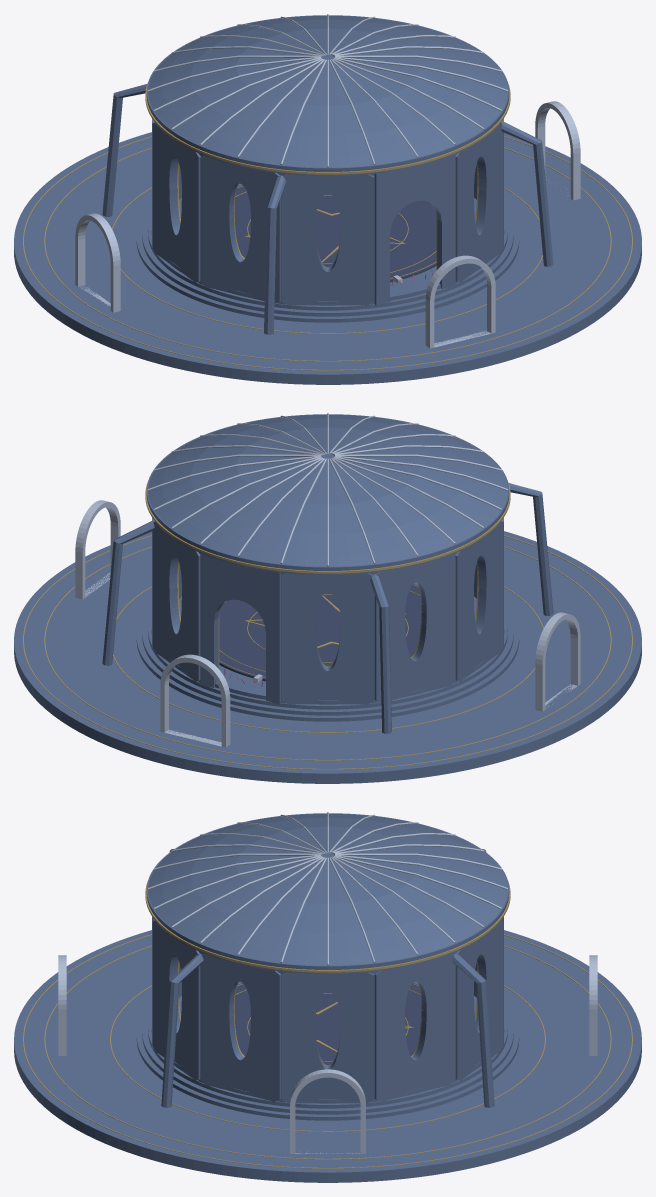
The picture shows the model from 3 angles, top to bottom: view 1: azimuth 30°, elevation 25°; view 2: azimuth 150°, elevation 25°; view 3: azimuth 270°, elevation 25°; orthographic projection.
Parts seen in each view (by area): view 1: TERRACE_finite_base, ROOF_hollow_dome, WALL_11_perforated, WALL_10_perforated, WALL_09_perforated, WALL_01_perforated, DANCE_floor, HALL_step_00, ROOF_drum, HALL_step_01, DOOR_00_upper, DOOR_00_jamb_-1 (+14 smaller); view 2: TERRACE_finite_base, ROOF_hollow_dome, WALL_07_perforated, WALL_08_perforated, WALL_09_perforated, WALL_05_perforated, DANCE_floor, HALL_step_00, ROOF_drum, HALL_step_01, DOOR_06_upper, DOOR_06_jamb_1 (+14 smaller); view 3: TERRACE_finite_base, ROOF_hollow_dome, WALL_03_perforated, WALL_02_perforated, WALL_04_perforated, WALL_01_perforated, WALL_05_perforated, DANCE_floor, ROOF_drum, HALL_step_00, HALL_step_01, EXTERIOR_brace_00 (+10 smaller).
Boxes of the visible parts, x1,y1,x2,y2 form: TERRACE_finite_base: (14,132,641,384); ROOF_hollow_dome: (148,16,507,167); WALL_11_perforated: (282,174,373,305); WALL_10_perforated: (200,156,281,303); WALL_09_perforated: (152,123,200,282); WALL_01_perforated: (455,123,503,282); DANCE_floor: (234,185,436,282); HALL_step_00: (136,207,519,322); ROOF_drum: (146,15,509,176); HALL_step_01: (142,210,513,316); DOOR_00_upper: (390,159,441,233); DOOR_00_jamb_-1: (374,171,389,305); TERRACE_finite_base: (14,531,641,783); ROOF_hollow_dome: (148,415,507,566); WALL_07_perforated: (282,573,373,704); WALL_08_perforated: (374,555,455,702); WALL_09_perforated: (455,522,503,681); WALL_05_perforated: (152,522,200,681); DANCE_floor: (219,584,421,681); HALL_step_00: (136,606,519,721); ROOF_drum: (146,414,509,575); HALL_step_01: (142,609,513,715); DOOR_06_upper: (214,558,265,632); DOOR_06_jamb_1: (266,570,281,704); TERRACE_finite_base: (14,930,641,1182); ROOF_hollow_dome: (148,814,507,965); WALL_03_perforated: (282,972,373,1103); WALL_02_perforated: (200,954,281,1101); WALL_04_perforated: (374,954,455,1101); WALL_01_perforated: (152,921,200,1080); WALL_05_perforated: (455,921,503,1080); DANCE_floor: (234,983,421,1065); ROOF_drum: (146,813,509,974); HALL_step_00: (136,1005,519,1120); HALL_step_01: (142,1008,513,1114); EXTERIOR_brace_00: (452,953,494,1107).
Size of the model in its own units: 22 by 7.56 by 22.
